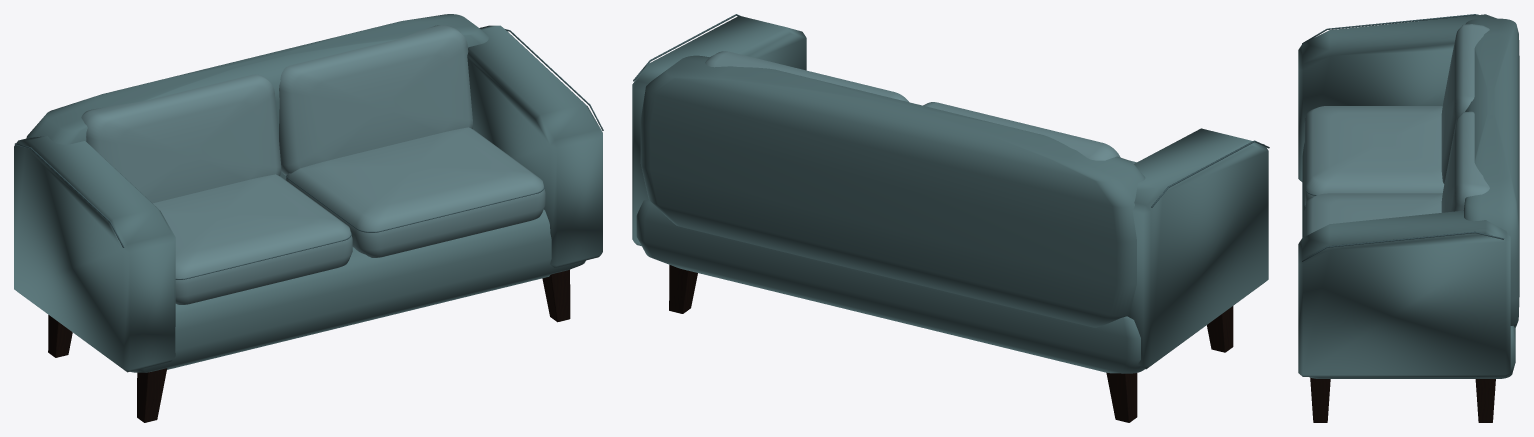
File: S027_two_seat_sofa_rebuilt.glb
3 renders of one model, left to right at view 1: azimuth 30°, elevation 25°; view 2: azimuth 150°, elevation 25°; view 3: azimuth 270°, elevation 25°, orthographic. The views are drawn at different scales.
Visible parts, largest first — view 1: Sofa_faded_petrol_upholstery, Sofa_softly_worn_petrol_cushions, Sofa_dark_oak_feet, Sofa_tailored_welt; view 2: Sofa_faded_petrol_upholstery, Sofa_softly_worn_petrol_cushions, Sofa_dark_oak_feet, Sofa_tailored_welt; view 3: Sofa_faded_petrol_upholstery, Sofa_softly_worn_petrol_cushions, Sofa_dark_oak_feet, Sofa_tailored_welt.
Part boxes in pixels (bbox=[...]): Sofa_faded_petrol_upholstery: bbox=[14, 14, 602, 372]; Sofa_softly_worn_petrol_cushions: bbox=[81, 25, 545, 304]; Sofa_dark_oak_feet: bbox=[48, 269, 570, 422]; Sofa_tailored_welt: bbox=[14, 29, 603, 279]; Sofa_faded_petrol_upholstery: bbox=[632, 15, 1268, 373]; Sofa_softly_worn_petrol_cushions: bbox=[705, 51, 1136, 163]; Sofa_dark_oak_feet: bbox=[669, 265, 1233, 422]; Sofa_tailored_welt: bbox=[633, 14, 1269, 207]; Sofa_faded_petrol_upholstery: bbox=[1298, 14, 1519, 378]; Sofa_softly_worn_petrol_cushions: bbox=[1304, 24, 1489, 236]; Sofa_dark_oak_feet: bbox=[1310, 377, 1495, 422]; Sofa_tailored_welt: bbox=[1302, 14, 1504, 262].
Size of the model in its own units: 2.02 by 0.97 by 0.865.
4 materials, 1 textured.
